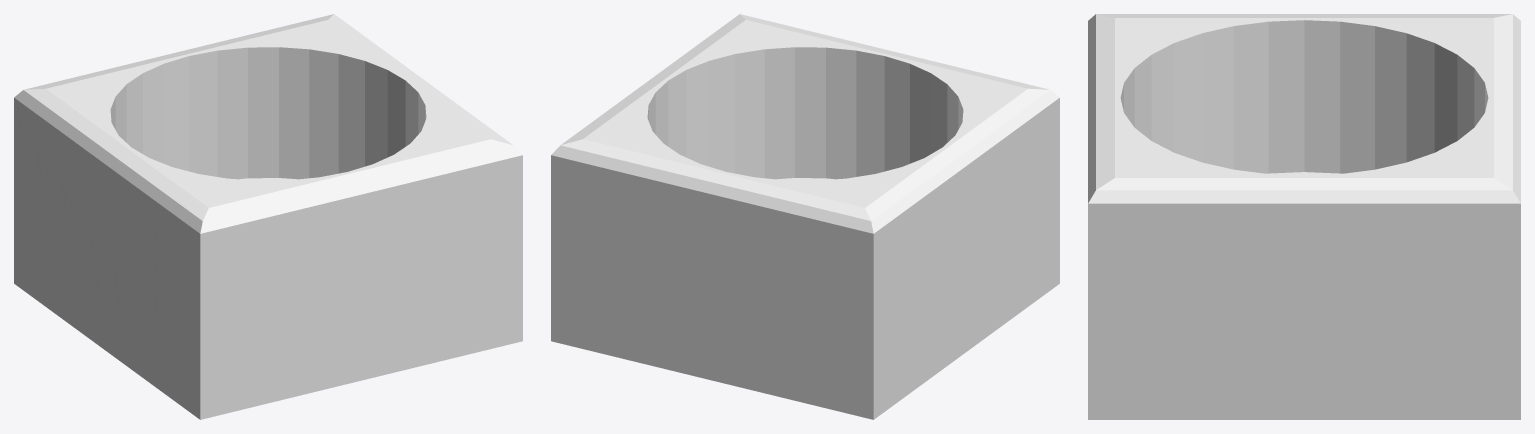
Rendered from oultlet1.fbx.
3 renders of one model, left to right at view 1: azimuth 30°, elevation 25°; view 2: azimuth 150°, elevation 25°; view 3: azimuth 270°, elevation 25°, orthographic. The views are drawn at different scales.
Visible parts, largest first — view 1: Cube; view 2: Cube; view 3: Cube.
Part boxes in pixels (x1,y1,x2,y2): Cube: (14,14,522,419); Cube: (551,14,1059,419); Cube: (1088,14,1520,419).
Bounding box in the file's own units: 234 × 137 × 234.
